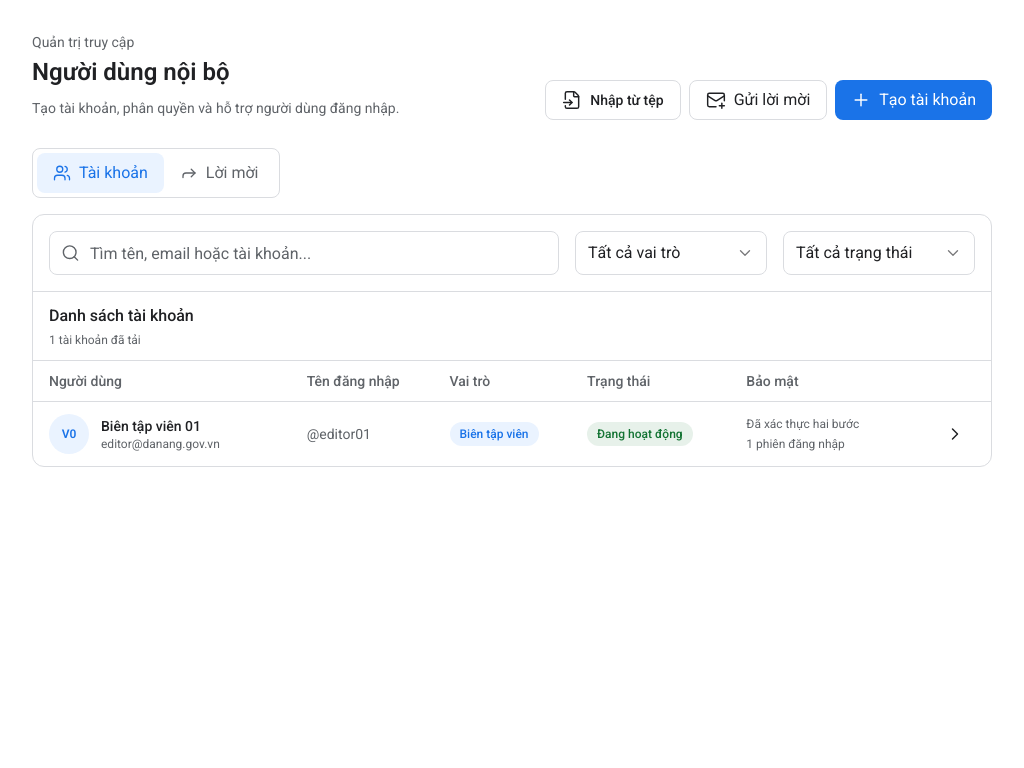
System Admin users screen › opens safe detail and updates display name with the loaded ETag
This screenshot has width=1024, height=768.
Click the button named "Xem chi tiết Biên tập viên 01" at x=955, y=434, box [935,414,975,454]
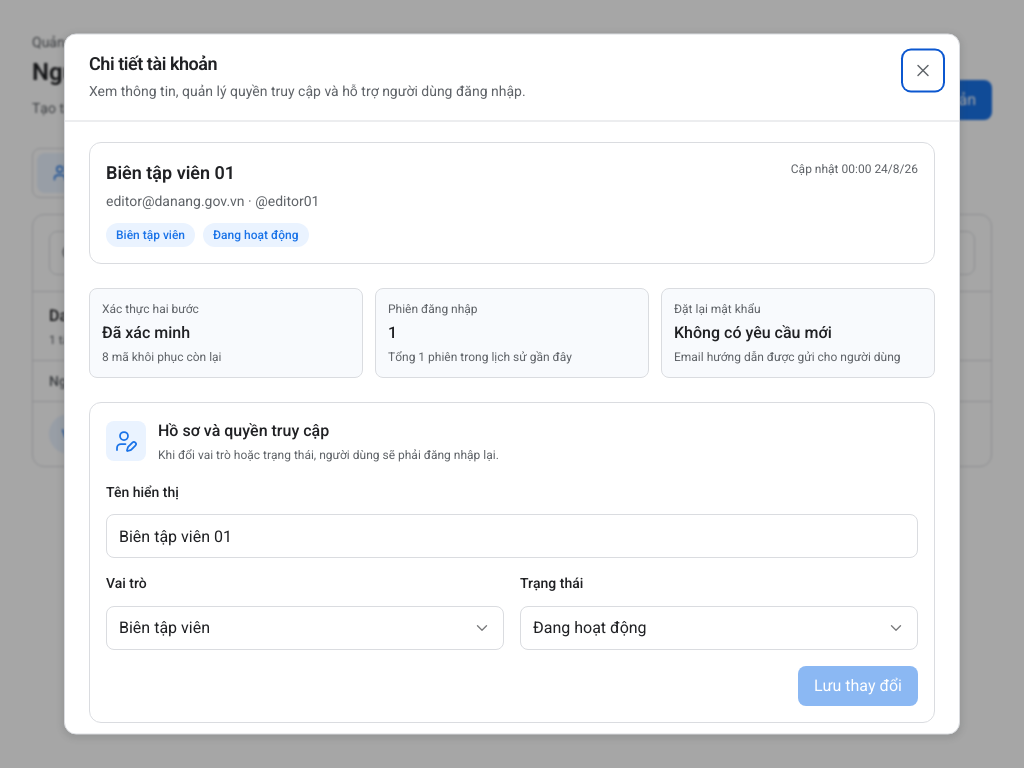
Replace the text in the field labelled "Tên hiển thị" with "Tên đã sửa" at x=512, y=536, box [106,514,918,558]
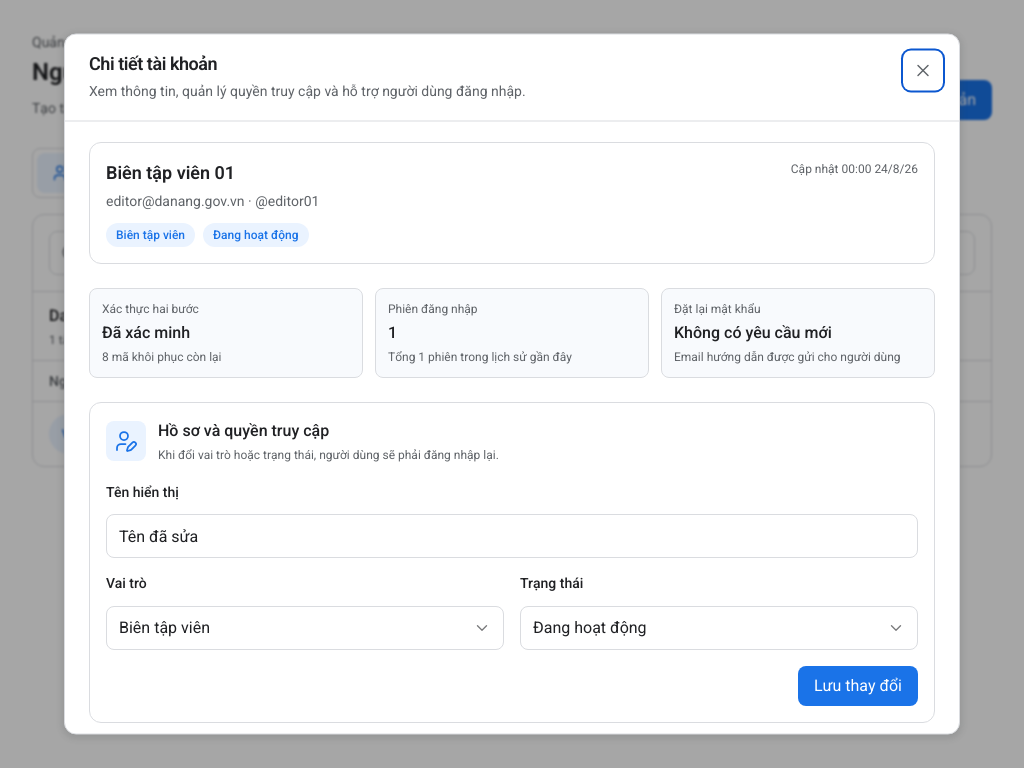
Click the button "Lưu thay đổi" at x=858, y=685, box [798,665,918,705]
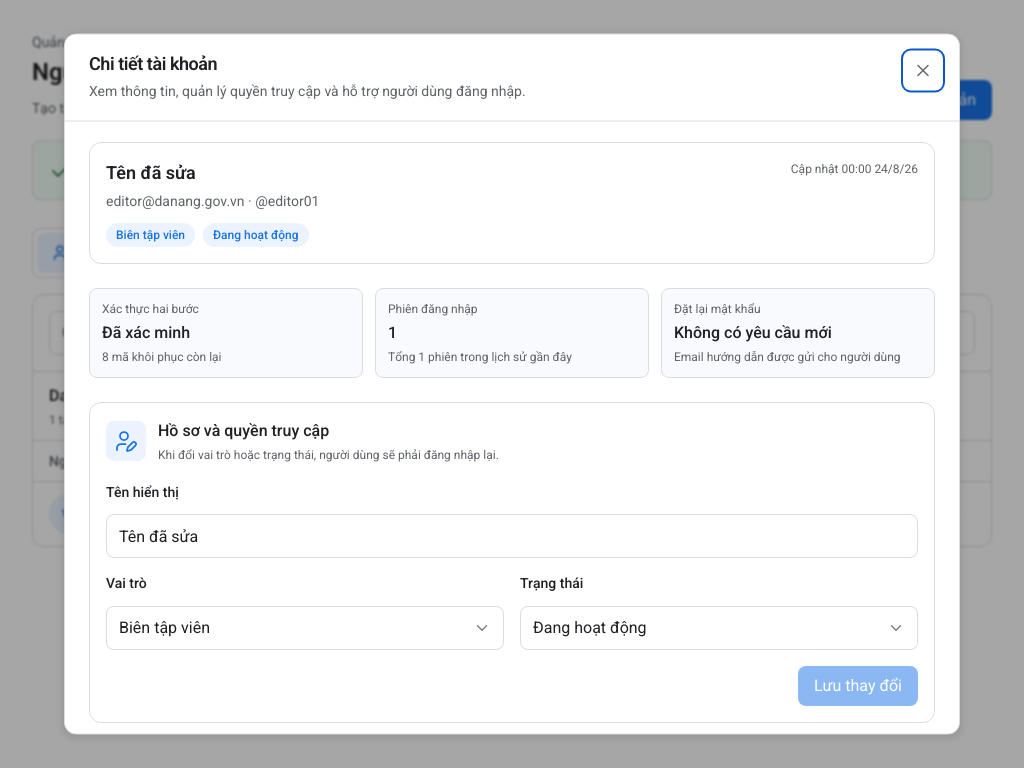
Expected: the text "Đã cập nhật tài khoản." is shown, [85,157,224,177]
